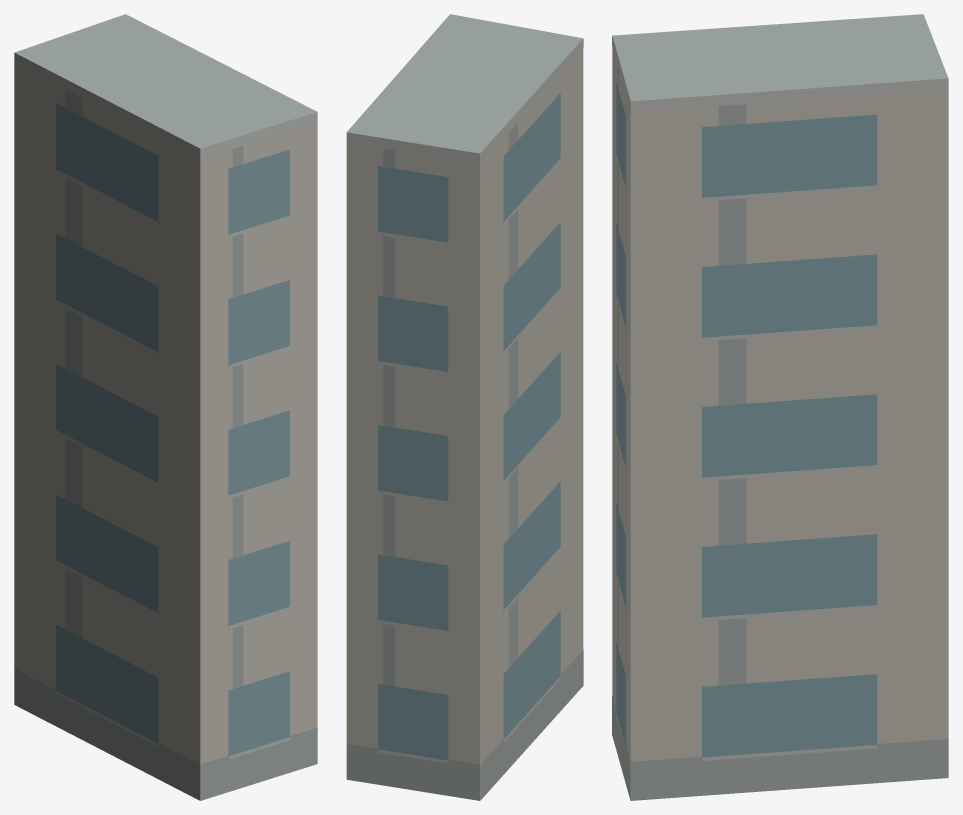
The model's file is survey-upis-32820207.glb.
3 renders of one model, left to right at view 1: azimuth 30°, elevation 25°; view 2: azimuth 150°, elevation 25°; view 3: azimuth 270°, elevation 25°, orthographic. The views are drawn at different scales.
Parts seen in each view (by area): view 1: survey-upis-32820207.tmp; view 2: survey-upis-32820207.tmp; view 3: survey-upis-32820207.tmp.
Boxes of the visible parts, bbox=[...] form: survey-upis-32820207.tmp: bbox=[14, 14, 317, 800]; survey-upis-32820207.tmp: bbox=[346, 14, 583, 800]; survey-upis-32820207.tmp: bbox=[612, 14, 948, 800].
Bounding box in the file's own units: 4.09 × 15.25 × 6.65.
